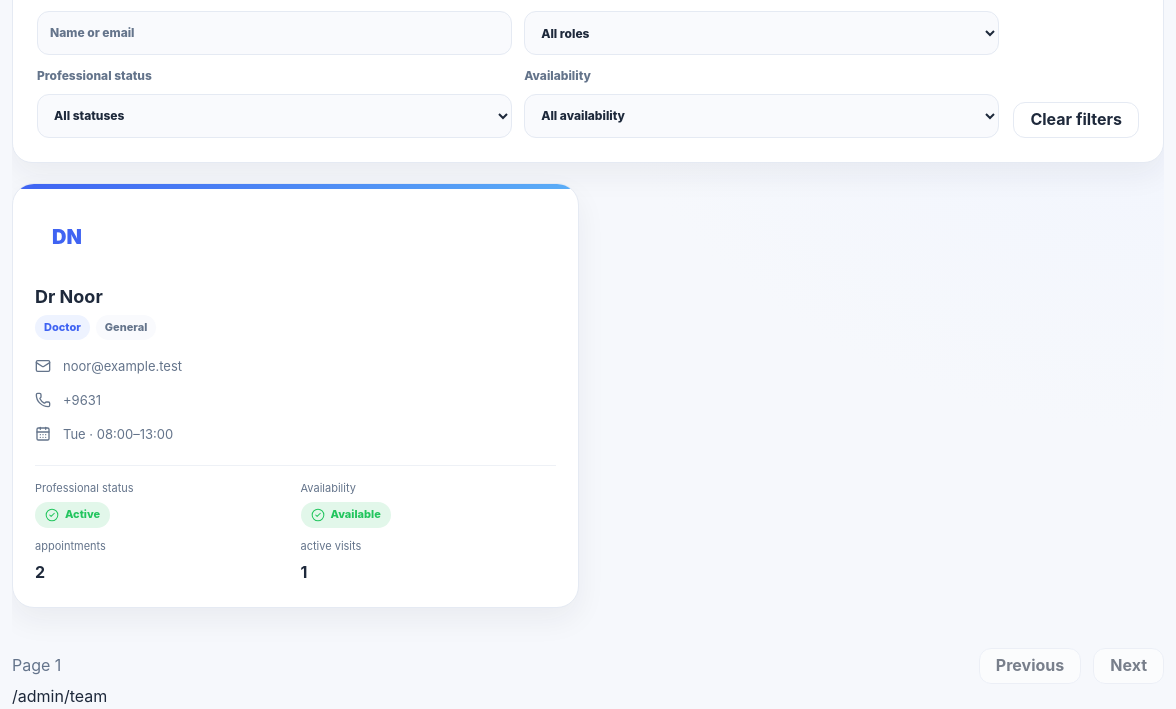
Team professional directory and detail › opens the safe exact Staff Team card without account creation
(page scrolled)
Expected: the heading "Dr Noor" is shown, [35,286,103,307]
Click the link "Dr Noor": (296, 208) [12,183,579,608]
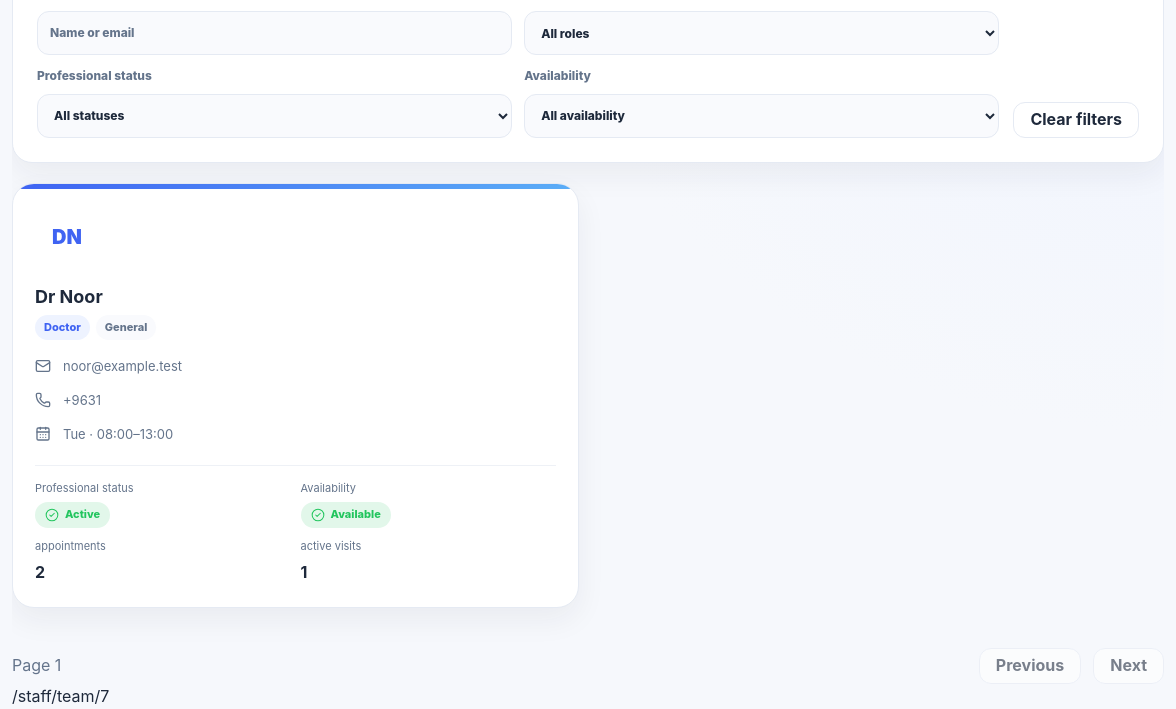
Expected: the text with test id "location" reads "/staff/team/7", [12,686,109,706]
